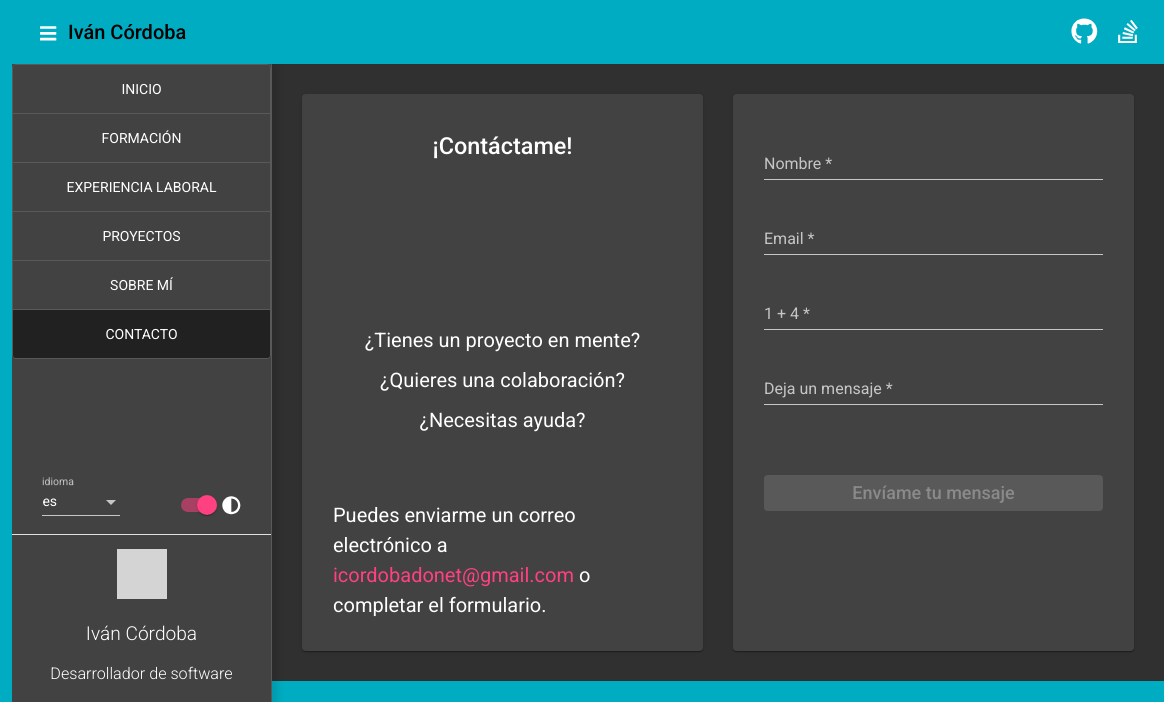
Contact Page › should show invalid error on email field
In the field with test id "contactFieldEmailInput": x=934, y=239 [764, 230, 1103, 248], type "nabby27"
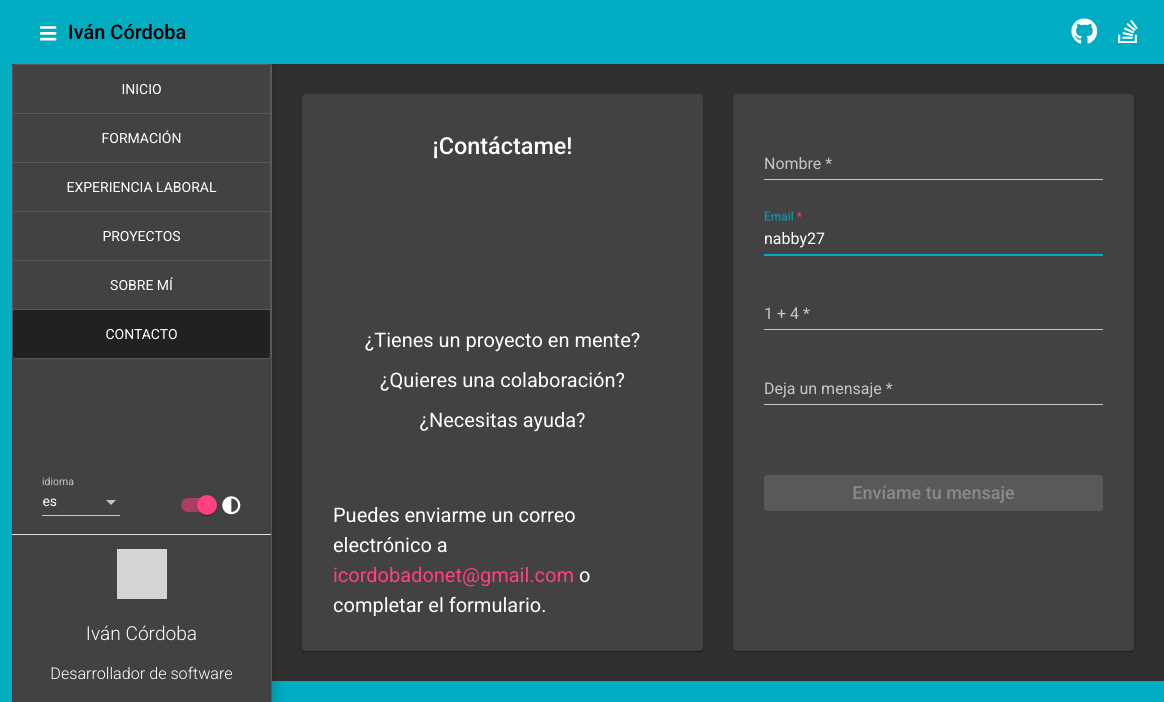
Click the element with test id "contactCard" that starts with "¡Contáctame!": x=503, y=373 [302, 94, 703, 651]
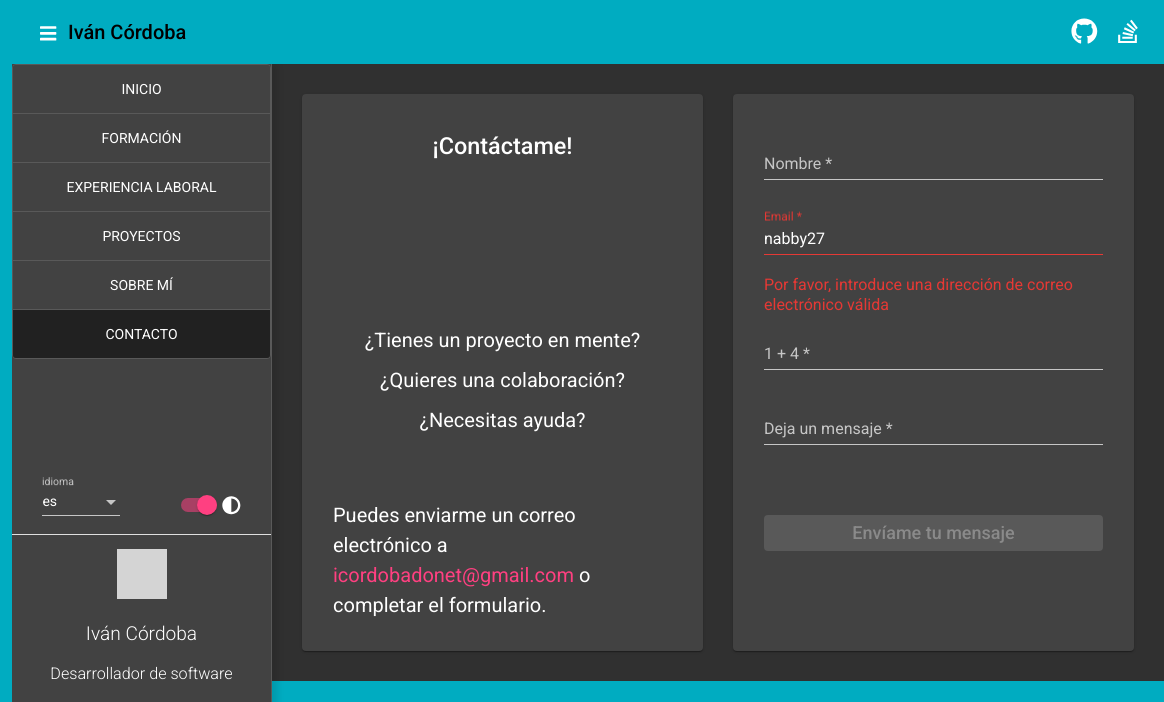
expect the text with test id "contactFieldEmailInvalidError" is shown: met, box [764, 275, 1103, 315]
